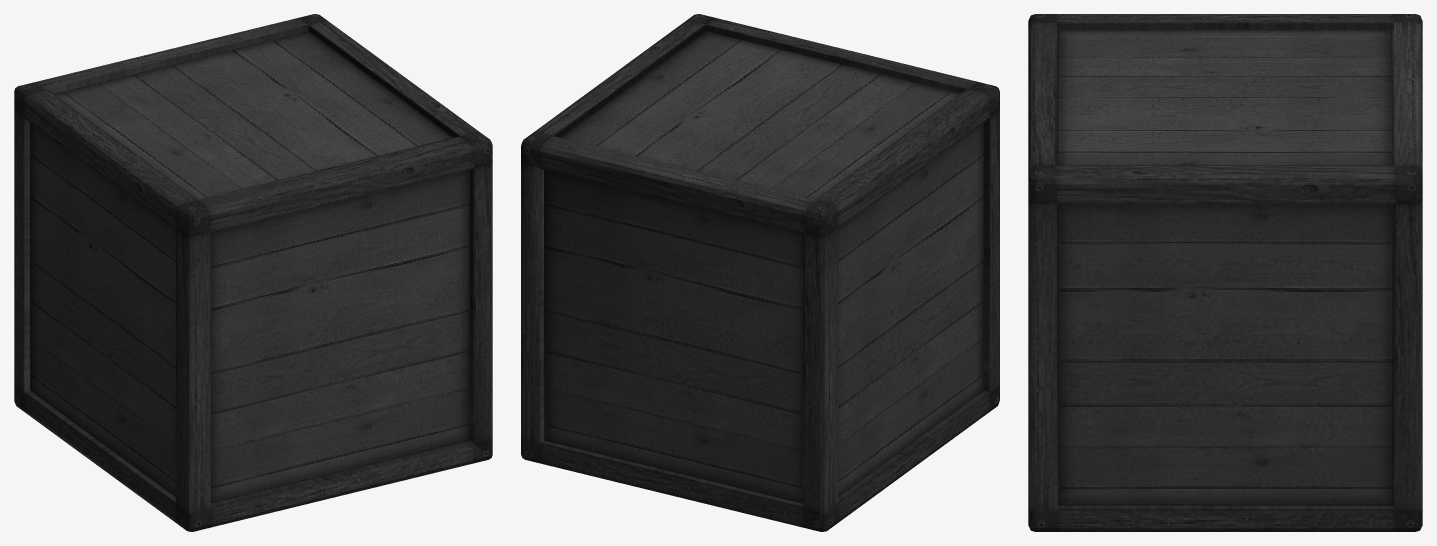
Rendered from wooden_crate_9.glb.
3 views of the same model, side by side, from view 1: azimuth 30°, elevation 25°; view 2: azimuth 150°, elevation 25°; view 3: azimuth 270°, elevation 25° (orthographic). The views are drawn at different scales.
Visible parts, largest first — view 1: wooden_crate_9; view 2: wooden_crate_9; view 3: wooden_crate_9.
Part boxes in pixels (<box>): wooden_crate_9: <box>14,14,492,531</box>; wooden_crate_9: <box>521,14,999,531</box>; wooden_crate_9: <box>1028,14,1422,531</box>.
Bounding box in the file's own units: 1.1 × 1.1 × 1.1.
Materials: 1 (1 with a texture image).
